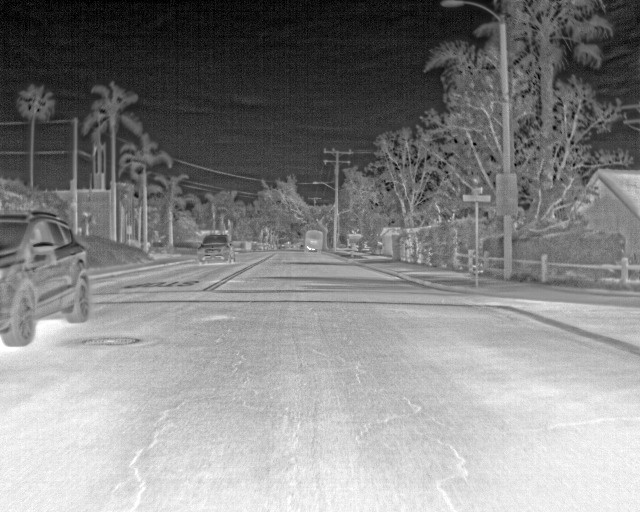vehicle: (1, 210, 91, 347), (200, 233, 236, 265), (303, 229, 326, 250)
